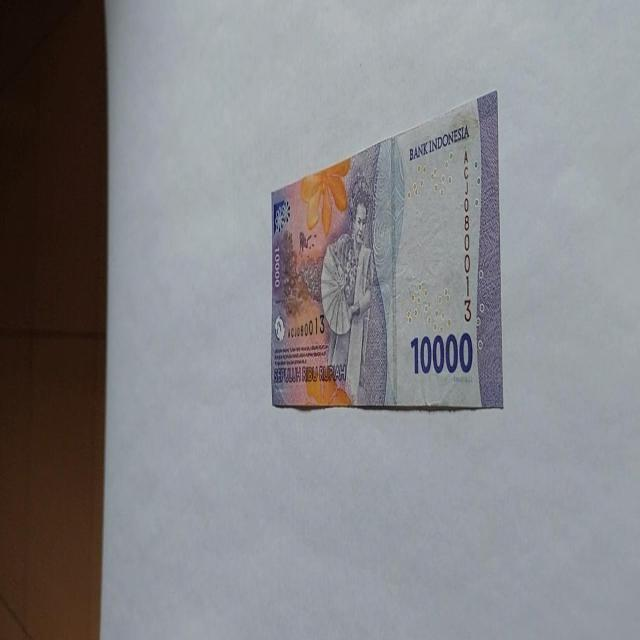Kertas: (269, 89, 503, 411), (409, 330, 473, 376)
